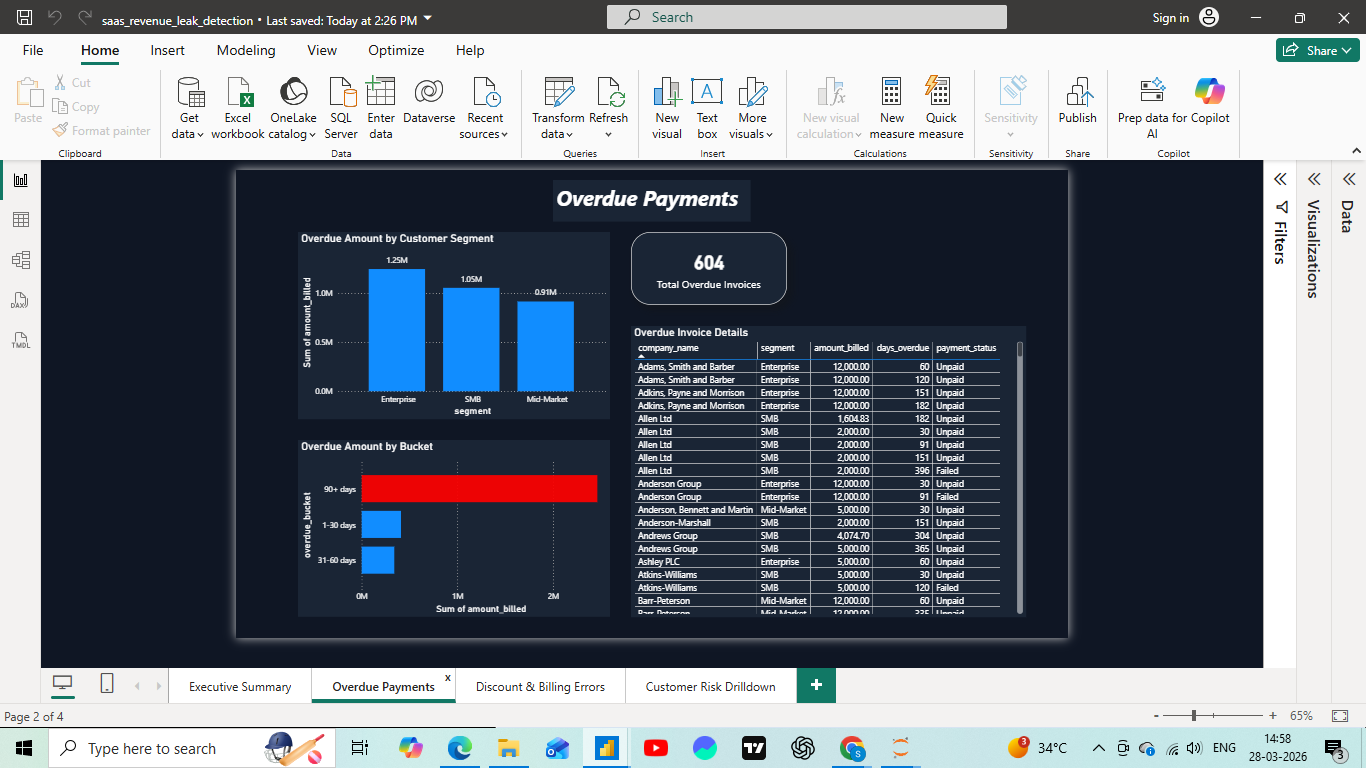

What the dashboard file says about the page in this screenshot:
{"tool":"powerbi","page":{"name":"Overdue Payments","canvas":[1280,720],"ordinal":1},"visuals":[{"type":"clusteredBarChart","title":"Overdue Amount by Bucket","fields":{"Category":["Leak1_Overdue.overdue_bucket"],"Y":["Sum(Leak1_Overdue.amount_billed)"]},"box":[96,416,480,272],"z":0},{"type":"tableEx","title":"Overdue Invoice Details","fields":{"Values":["Leak1_Overdue.company_name","Leak1_Overdue.segment","Leak1_Overdue.amount_billed","Leak1_Overdue.days_overdue","Leak1_Overdue.payment_status"]},"box":[608,240,608,448],"z":1000},{"type":"card","fields":{"Values":["CountNonNull(Leak1_Overdue.invoice_id)"]},"box":[608,96,240,112],"z":2000},{"type":"clusteredColumnChart","title":"Overdue Amount by Customer Segment","fields":{"Category":["Leak1_Overdue.segment"],"Y":["Sum(Leak1_Overdue.amount_billed)"]},"box":[96,96,480,288],"z":3000},{"type":"textbox","box":[488,16,304,64],"z":4000}]}

Visuals, with their boxes on the page's 1280x720 design canvas (x1, y1, x2, y2). These are canvas units, not pixel positions in the 1366x768 screenshot, which may show the page scaled, cropped or inside an application window:
"Overdue Amount by Bucket" clusteredBarChart: locate(96, 416, 576, 688)
"Overdue Invoice Details" tableEx: locate(608, 240, 1216, 688)
card - CountNonNull(Leak1_Overdue.invoice_id): locate(608, 96, 848, 208)
"Overdue Amount by Customer Segment" clusteredColumnChart: locate(96, 96, 576, 384)
textbox: locate(488, 16, 792, 80)
